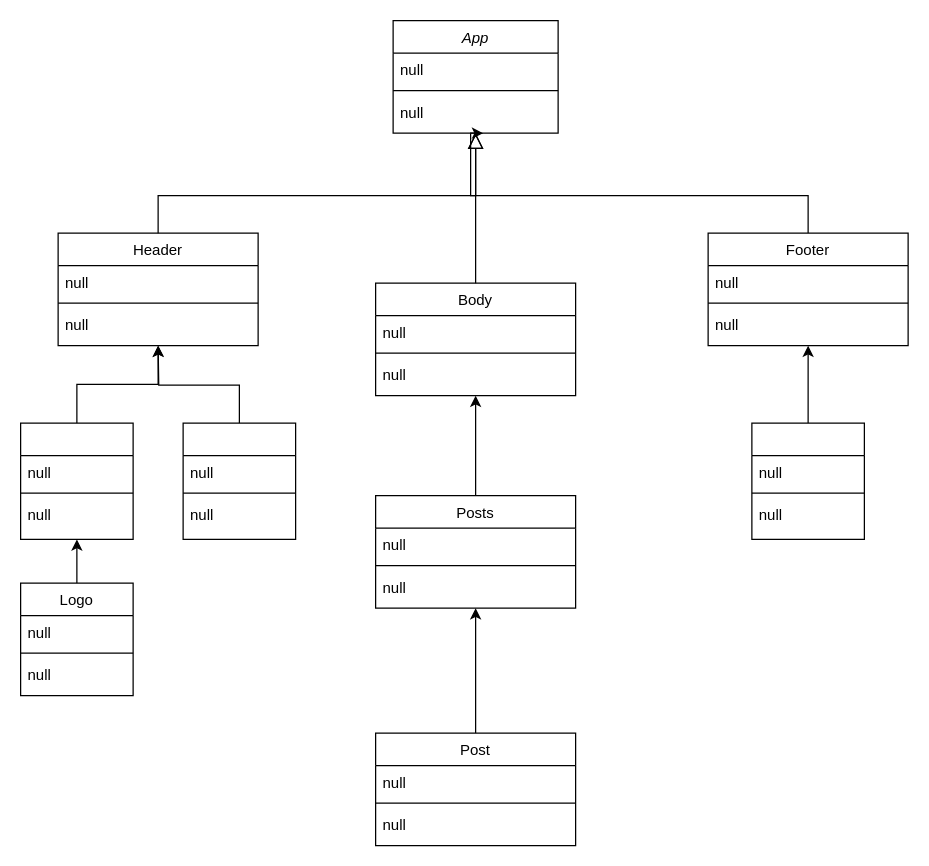
This 929x866 diagram has some shape labels left out. The box of each missing label's shape, as (x1, y1, x2, y2) in pixels:
Address: (751, 422, 864, 539)
Banner: (19, 422, 133, 539)
Login: (182, 422, 296, 539)
